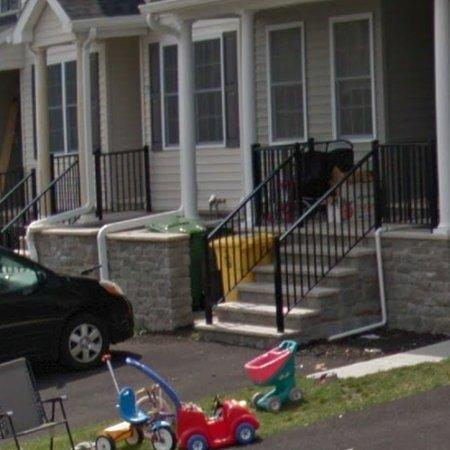stairs: (203, 144, 437, 346)
